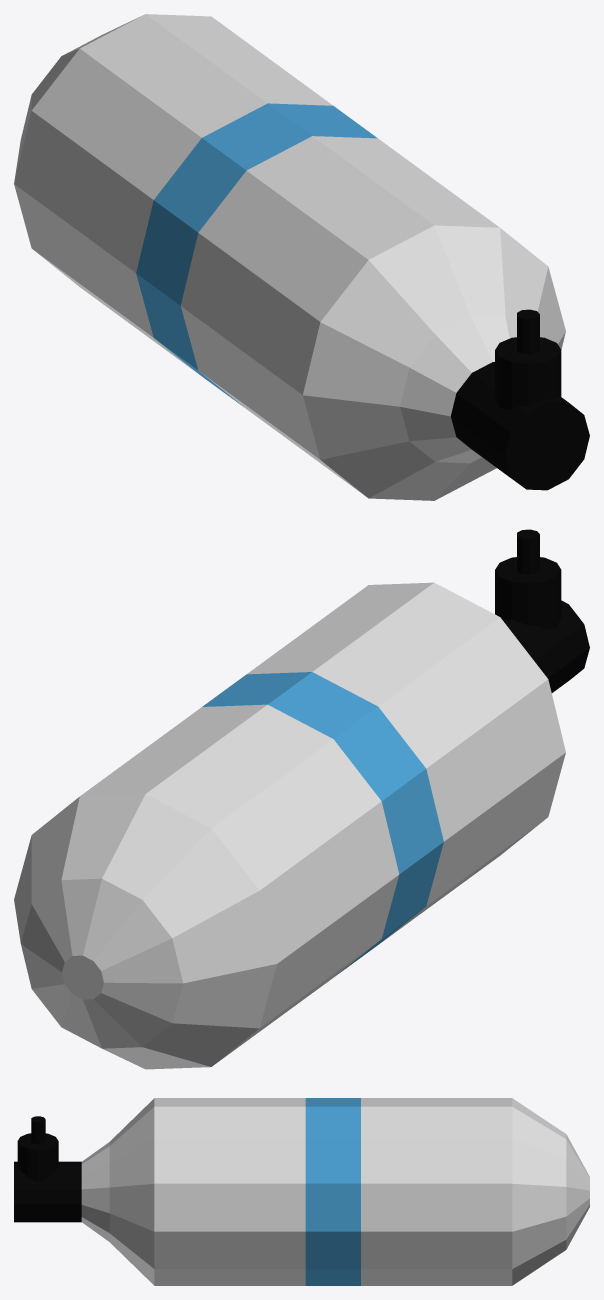
File: OxygenTank.fbx
The picture shows the model from 3 angles, top to bottom: view 1: azimuth 30°, elevation 25°; view 2: azimuth 150°, elevation 25°; view 3: azimuth 270°, elevation 25°; orthographic projection. The views are drawn at different scales.
Visible parts, largest first — view 1: OxygenTank; view 2: OxygenTank; view 3: OxygenTank.
Part boxes in pixels (left/top/right/bottom): OxygenTank: left=14, top=14, right=589, bottom=500; OxygenTank: left=14, top=529, right=589, bottom=1069; OxygenTank: left=14, top=1098, right=589, bottom=1285.
Bounding box in the file's own units: 31.45 × 31.45 × 96.15.
